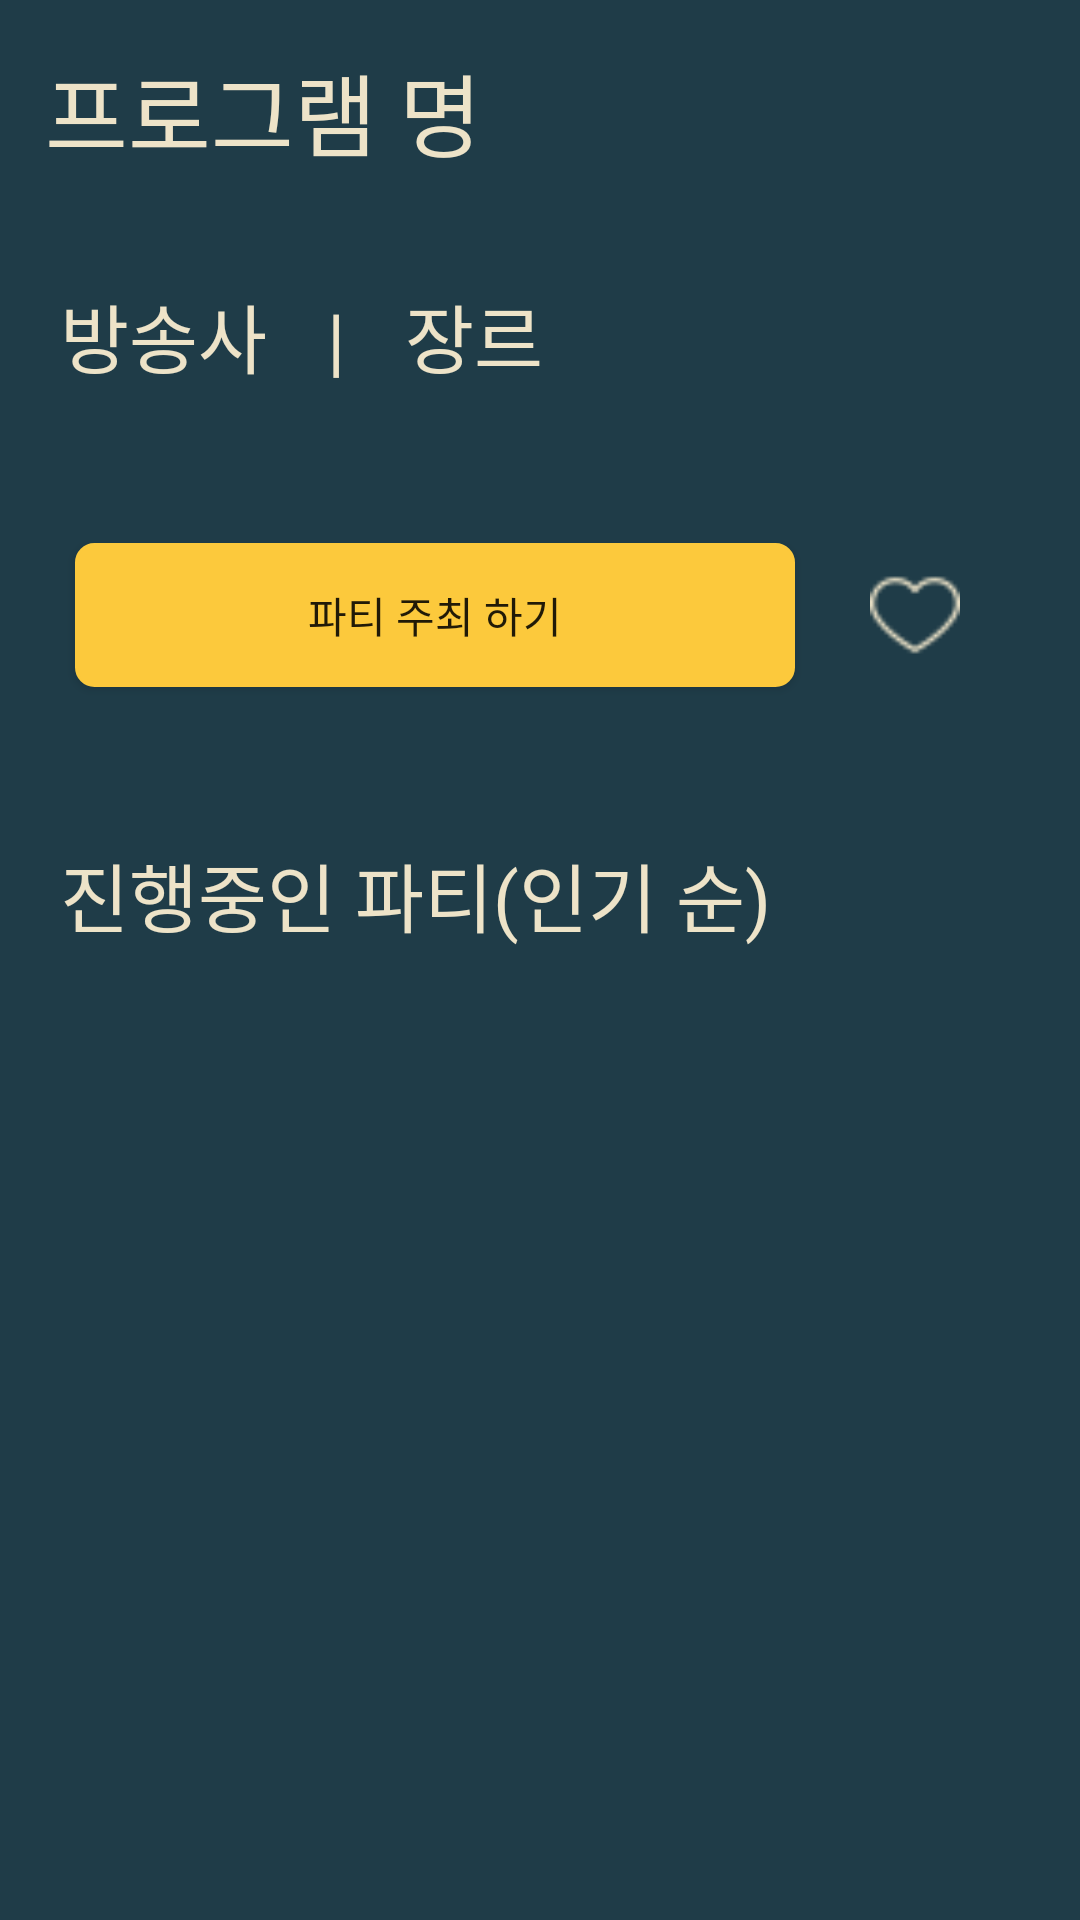

Named icons in this screenshot (1080 × 1920) and their centers, (x=x, y=y):
lovee: (x=915, y=615)
